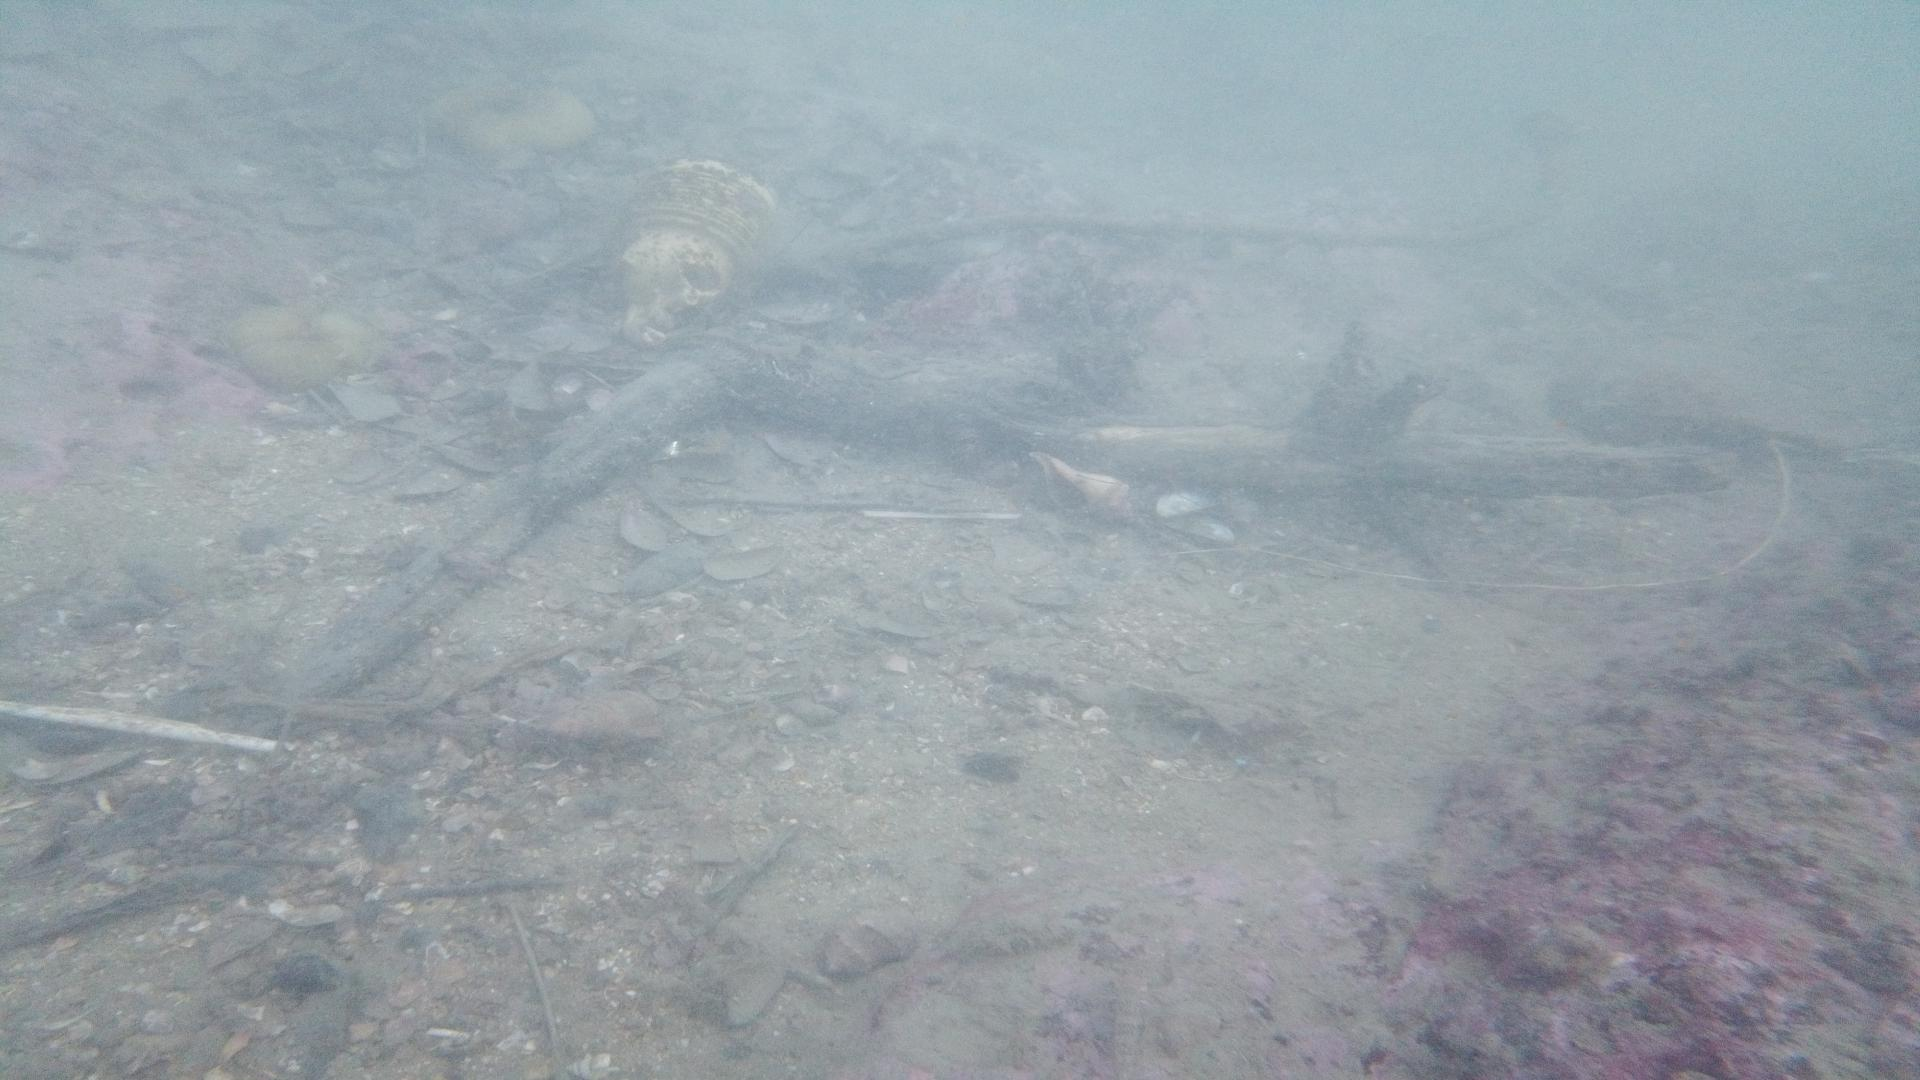rope: (851, 174, 1532, 251)
wood: (293, 322, 1731, 698)
